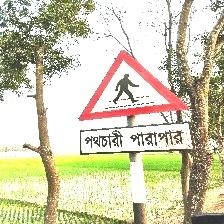Pedestrian-crossing: (77, 50, 192, 155)
